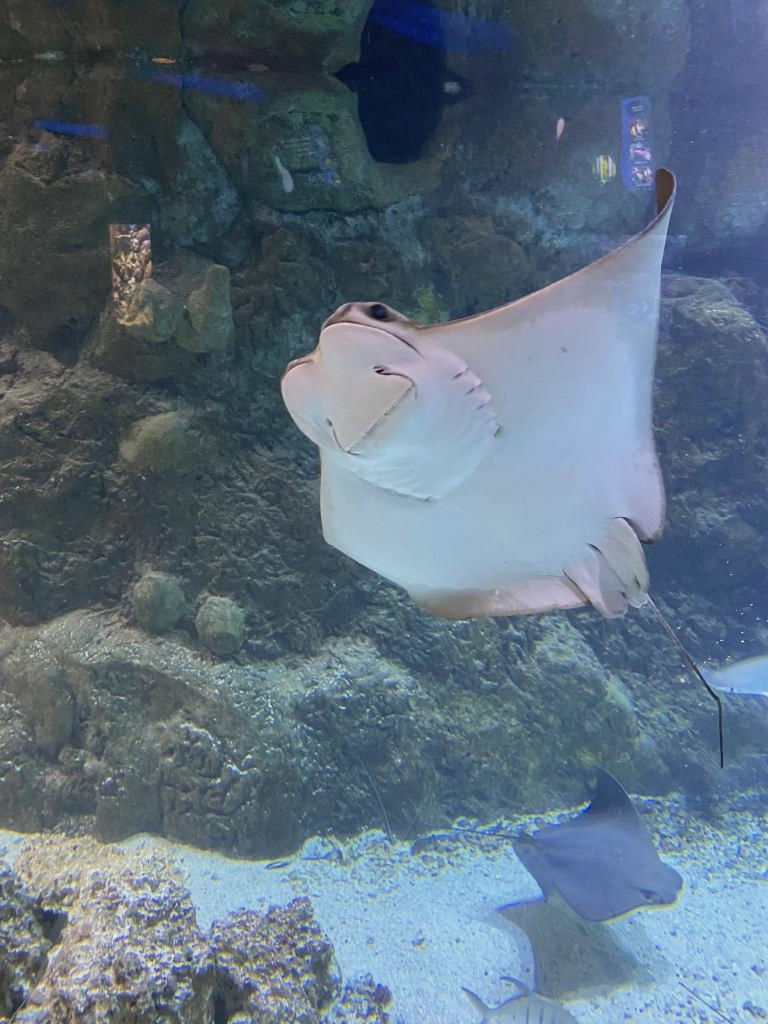fish: (460, 973, 582, 1023)
stingray: (281, 168, 676, 622), (509, 766, 683, 924)
